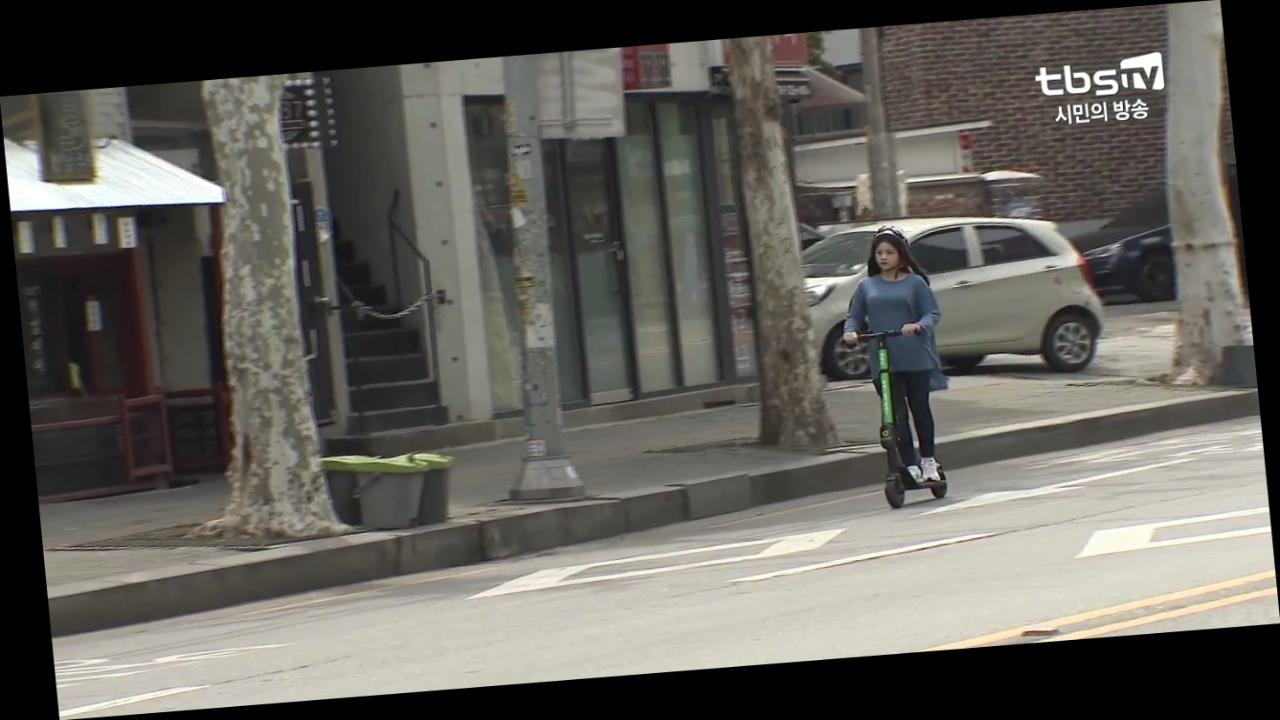helmet: (830, 221, 964, 511)
